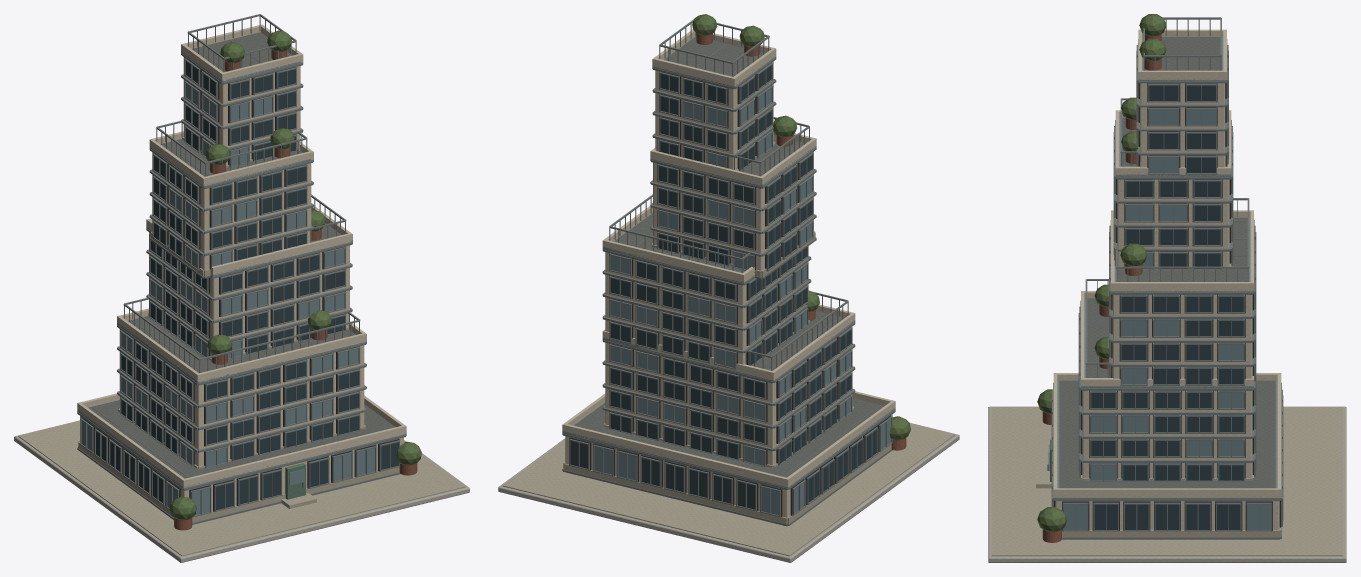
Rendered from EXP_TOWER_GARDENS.glb.
The picture shows the model from 3 angles, left to right: view 1: azimuth 30°, elevation 25°; view 2: azimuth 150°, elevation 25°; view 3: azimuth 270°, elevation 25°; orthographic projection. The views are drawn at different scales.
Parts seen in each view (by area): view 1: EXP_TOWER_GARDENS_Visual; view 2: EXP_TOWER_GARDENS_Visual; view 3: EXP_TOWER_GARDENS_Visual.
Part boxes in pixels (x1=…): EXP_TOWER_GARDENS_Visual: x1=14, y1=14, x2=469, y2=562; EXP_TOWER_GARDENS_Visual: x1=498, y1=14, x2=959, y2=562; EXP_TOWER_GARDENS_Visual: x1=988, y1=14, x2=1346, y2=562.
Size of what is drawn, in the model's own units: 5.92 by 8.46 by 5.92.
Materials: 12 (8 with a texture image).
